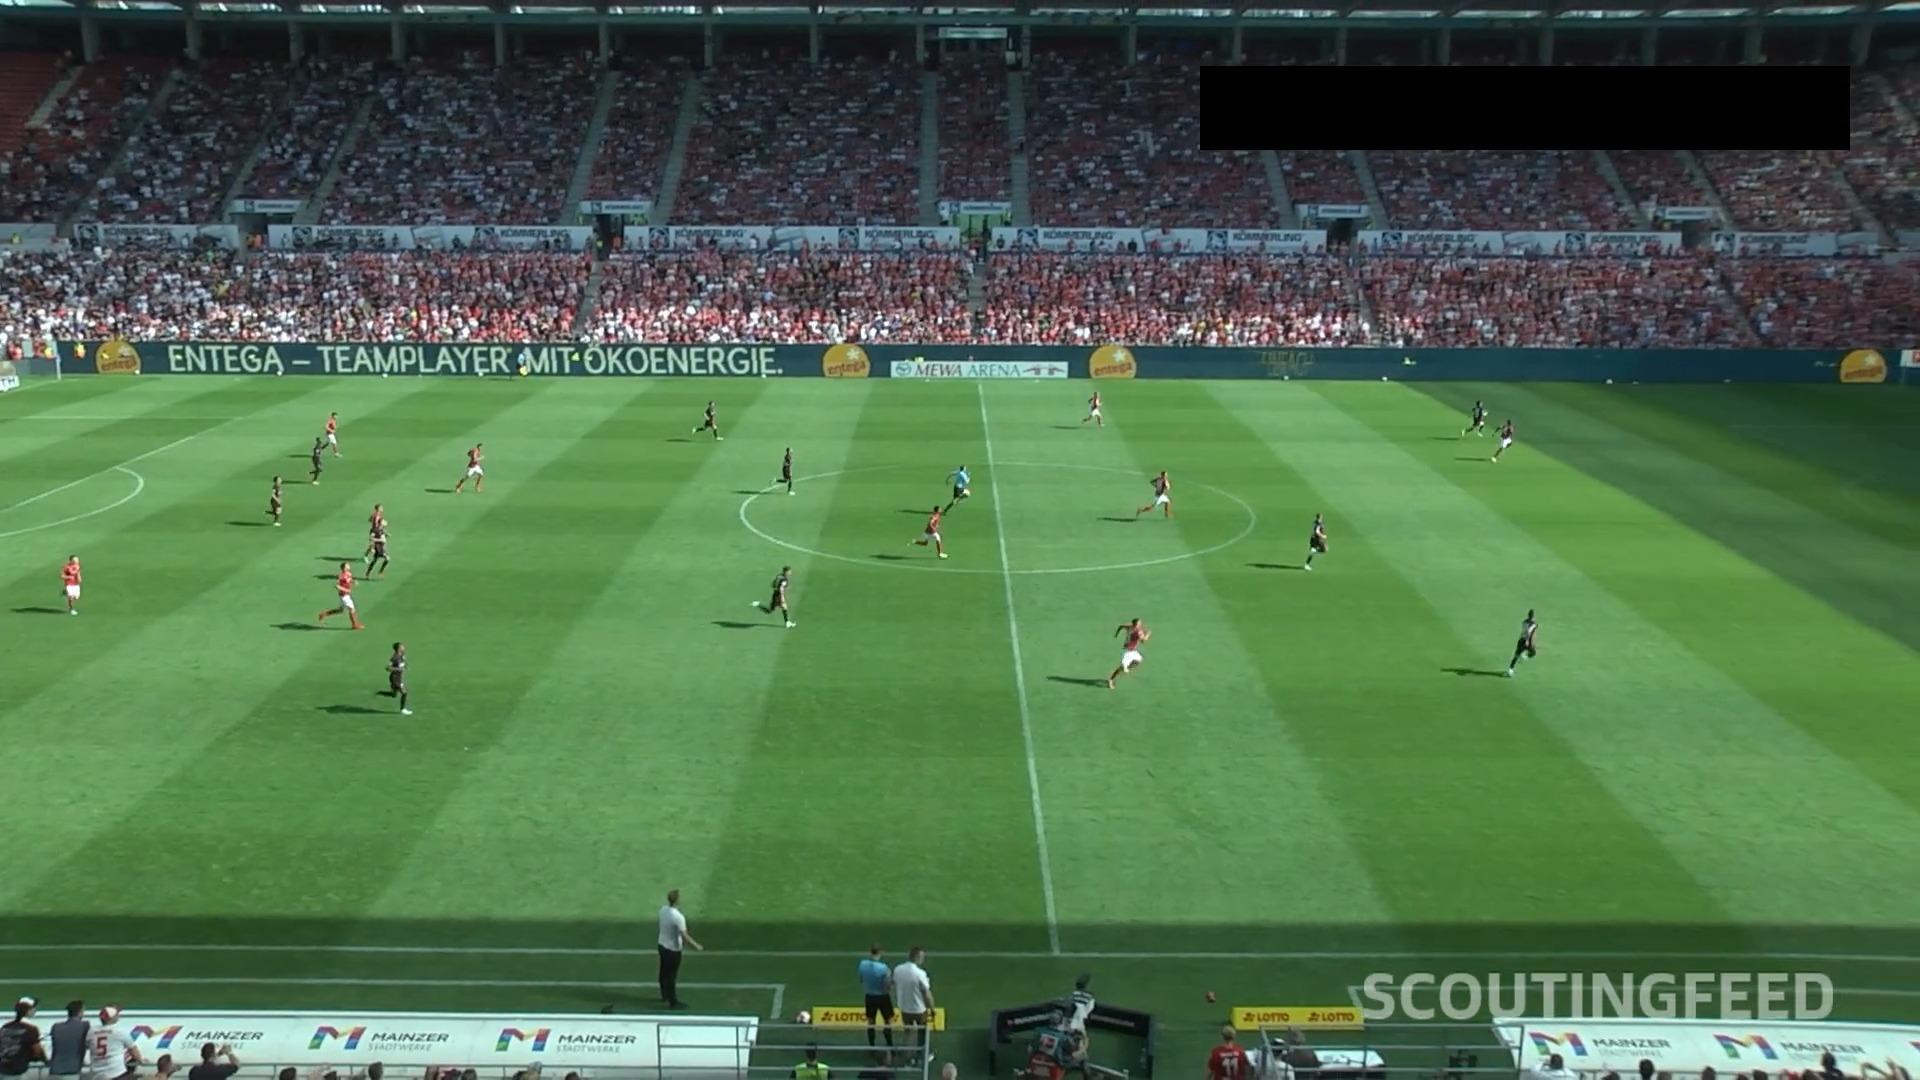ball: (1604, 377, 1614, 385)
